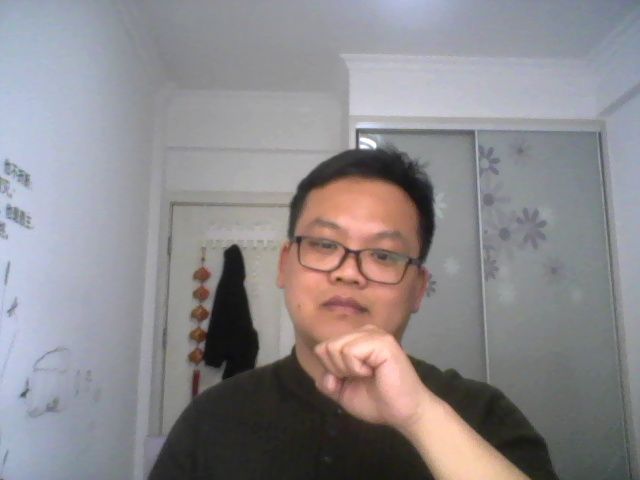Yes: (308, 317, 431, 436)
